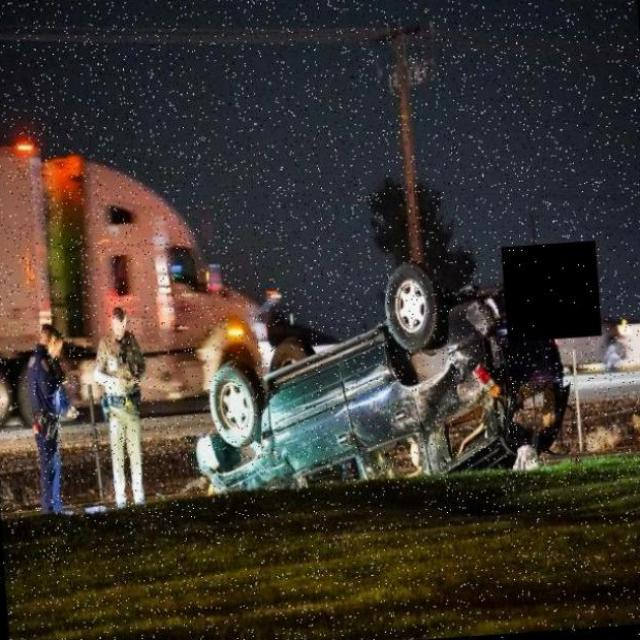accident: (178, 242, 578, 494)
